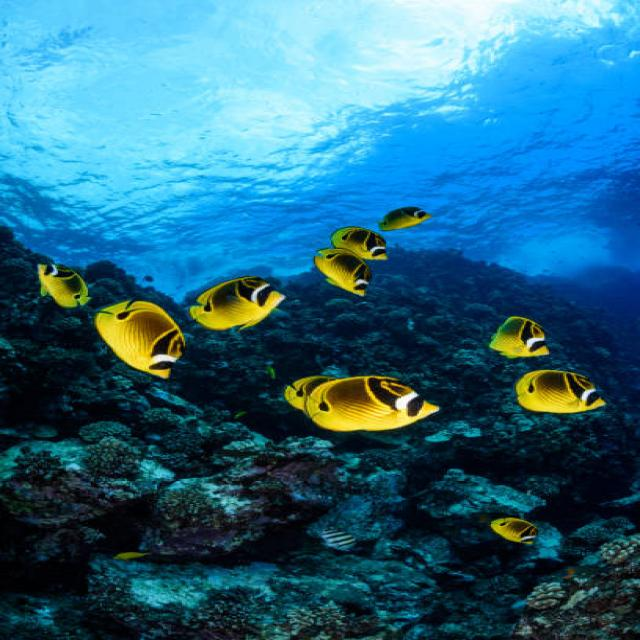ButterflyFish: (284, 371, 438, 431), (94, 299, 182, 378), (187, 275, 287, 333), (516, 367, 607, 415), (32, 252, 90, 309), (315, 248, 375, 298), (491, 312, 554, 359), (332, 230, 390, 263), (380, 203, 433, 233), (489, 513, 538, 543)
